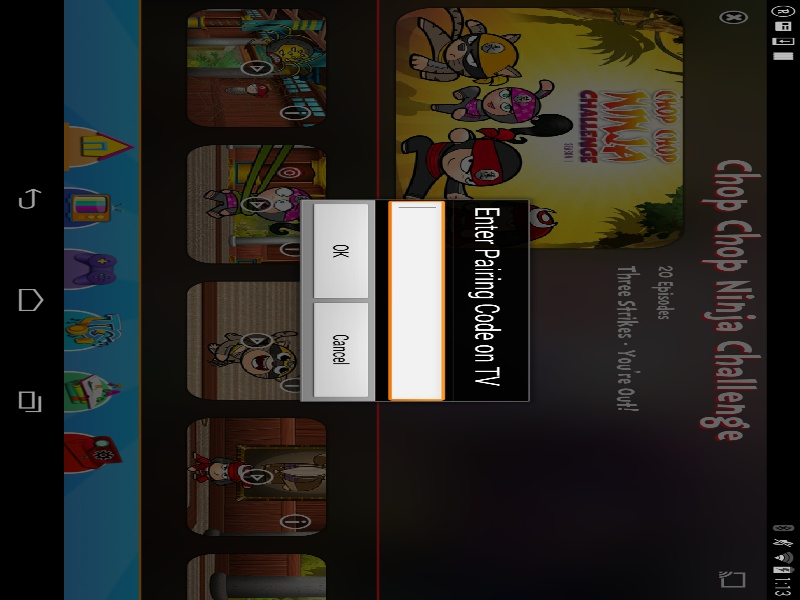Button: (430, 201, 641, 231)
